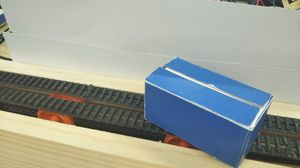box3: (142, 56, 273, 166)
